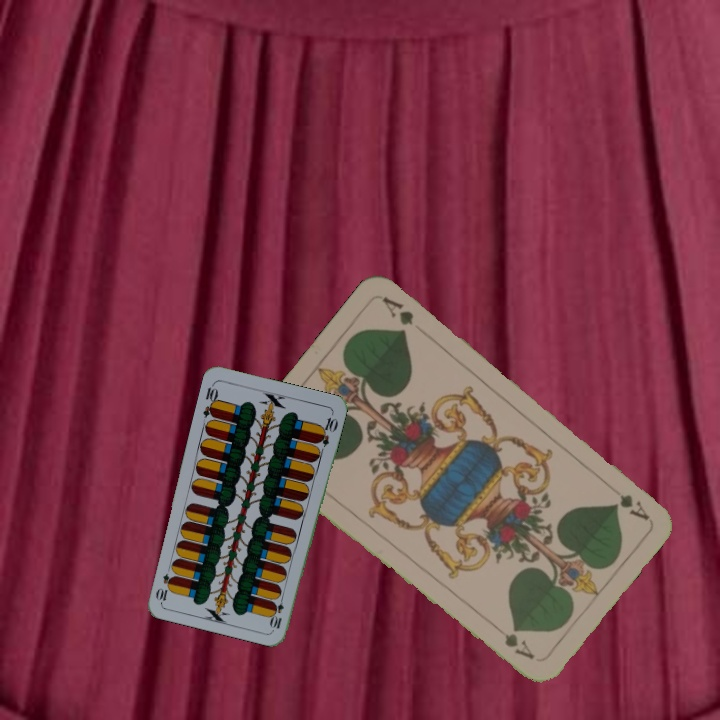E10: (199, 379, 221, 420), (268, 591, 286, 631)
GA: (602, 479, 652, 523)
